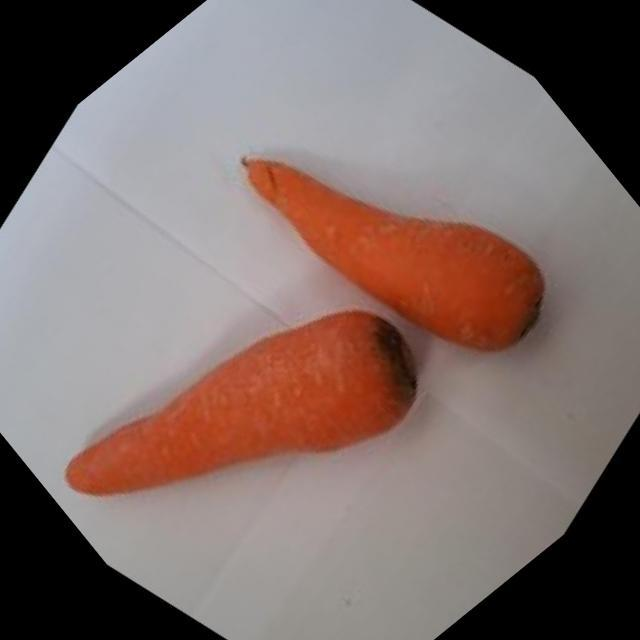carrot: (0, 151, 513, 640), (176, 11, 600, 456)
